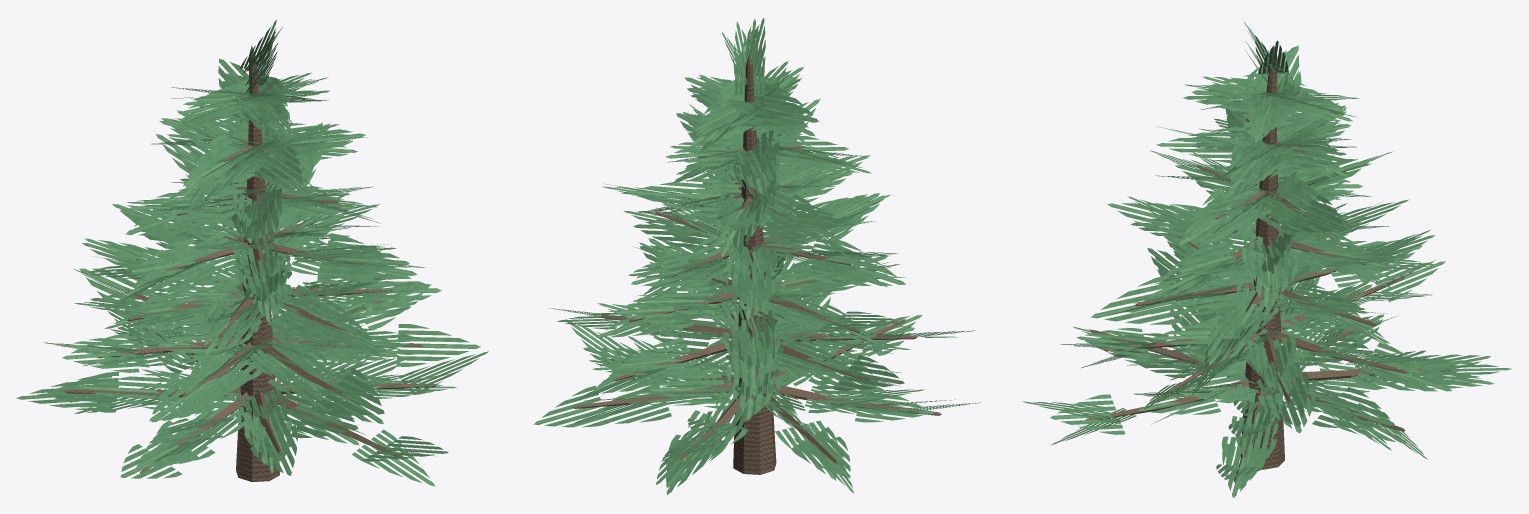
Rendered from 침엽수_02.fbx.
The picture shows the model from 3 angles, left to right: view 1: azimuth 30°, elevation 25°; view 2: azimuth 150°, elevation 25°; view 3: azimuth 270°, elevation 25°; orthographic projection. The views are drawn at different scales.
Visible parts, largest first — view 1: 침엽수_02; view 2: 침엽수_02; view 3: 침엽수_02.
Boxes of the visible parts, box(x1,y1,x2,y2) form: 침엽수_02: box(16, 20, 488, 486); 침엽수_02: box(533, 18, 980, 494); 침엽수_02: box(1022, 22, 1511, 497).
Size of the model in its own units: 11573 by 12073 by 12475.
